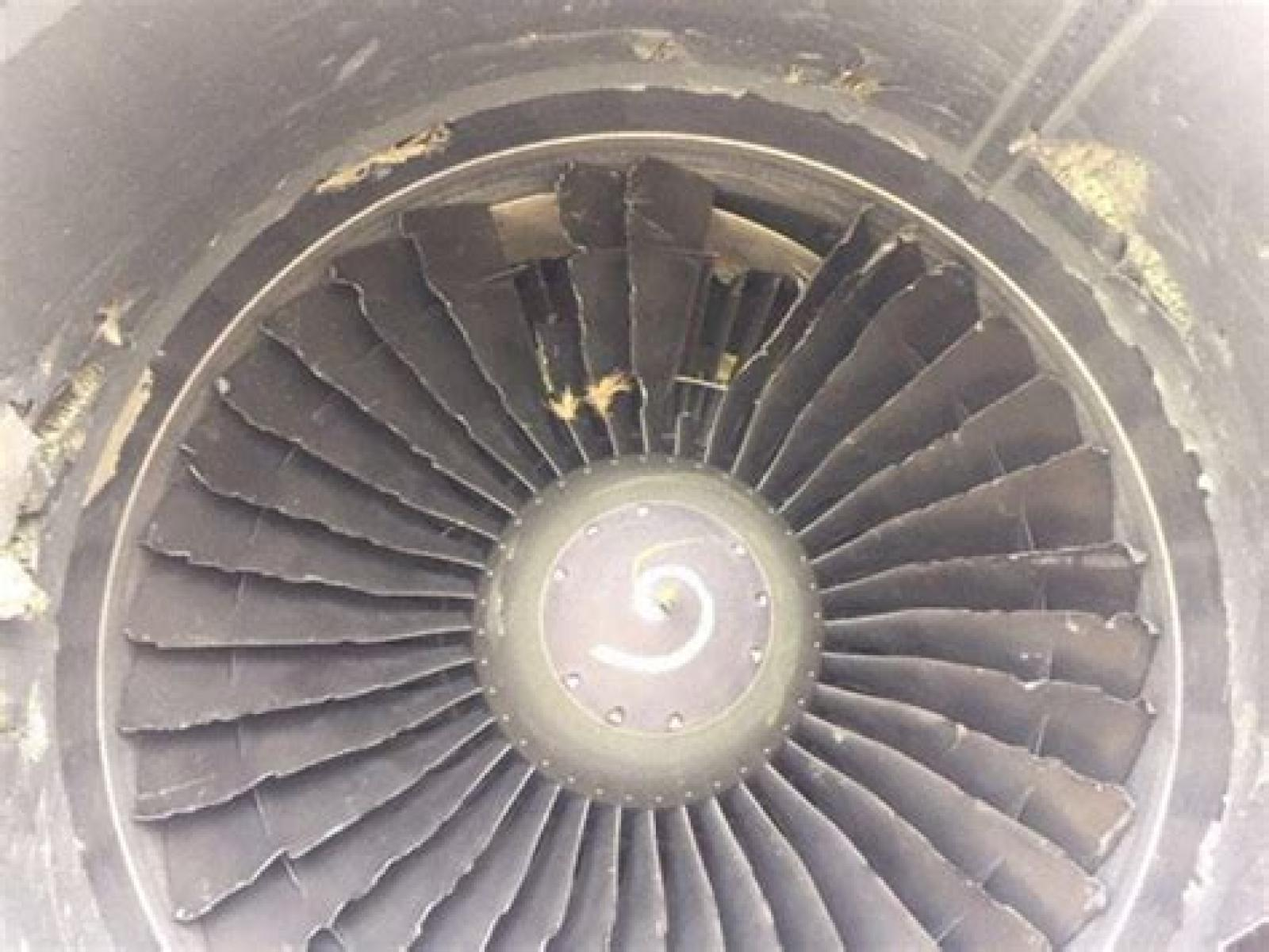Engine_damage: (407, 206, 573, 414), (0, 366, 102, 612), (632, 160, 817, 283), (1031, 139, 1149, 233), (316, 123, 452, 193), (83, 366, 150, 503)
